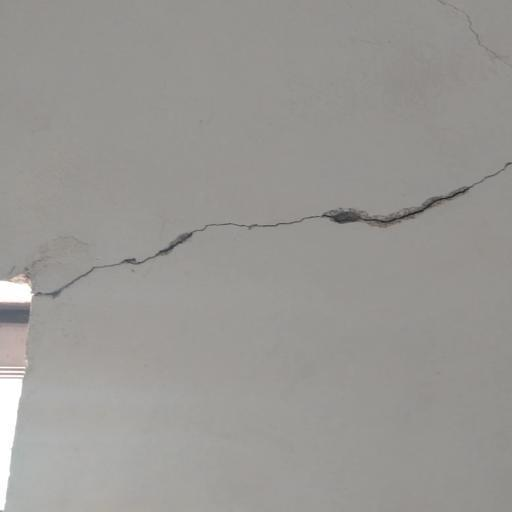major_crack: (28, 145, 512, 286), (436, 0, 512, 74)
